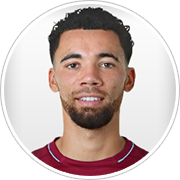face: (46, 41, 137, 126)
